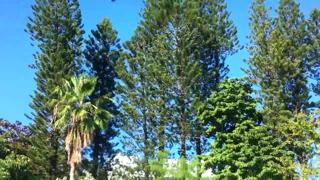UAV: (111, 0, 116, 2)
